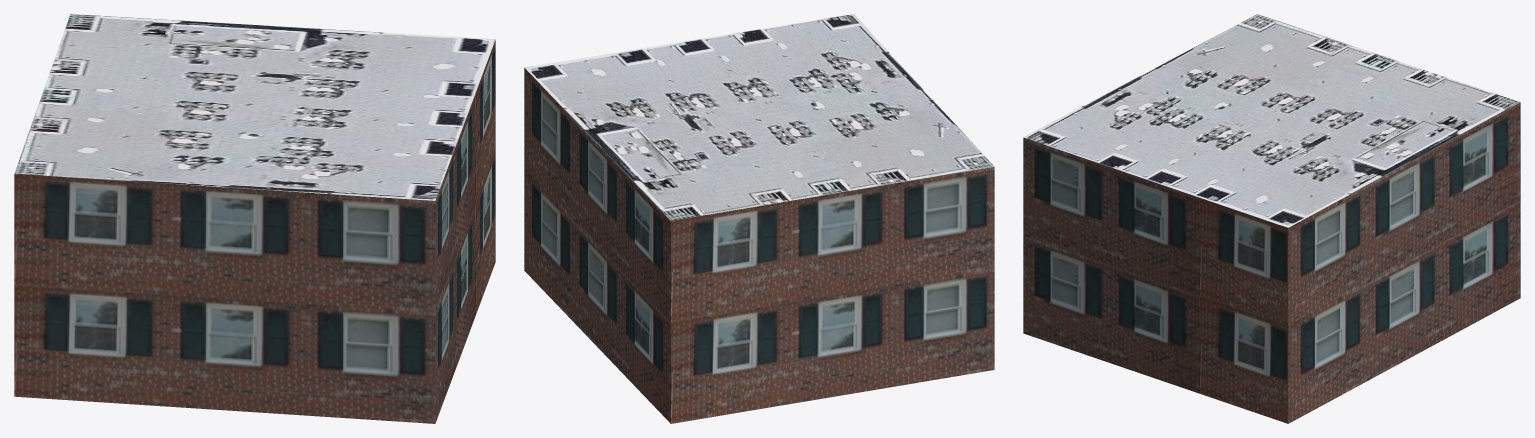
The model's file is ResTex__1991.fbx.
The picture shows the model from 3 angles, left to right: view 1: azimuth 30°, elevation 25°; view 2: azimuth 150°, elevation 25°; view 3: azimuth 270°, elevation 25°; orthographic projection. The views are drawn at different scales.
Visible parts, largest first — view 1: CityEngineMaterial_14_m, CityEngineMaterial_m; view 2: CityEngineMaterial_14_m, CityEngineMaterial_m; view 3: CityEngineMaterial_14_m, CityEngineMaterial_m.
Boxes of the visible parts, bbox=[...] form: CityEngineMaterial_14_m: bbox=[14, 40, 495, 423]; CityEngineMaterial_m: bbox=[14, 14, 495, 200]; CityEngineMaterial_14_m: bbox=[524, 68, 994, 423]; CityEngineMaterial_m: bbox=[524, 14, 994, 220]; CityEngineMaterial_14_m: bbox=[1023, 102, 1520, 423]; CityEngineMaterial_m: bbox=[1023, 14, 1520, 227].
Bounding box in the file's own units: 14.05 × 6 × 13.8.
2 materials, 2 textured.
